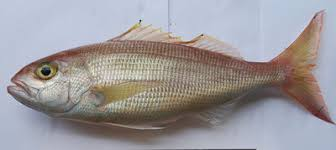Ikan Kerisi: (8, 34, 329, 126)
